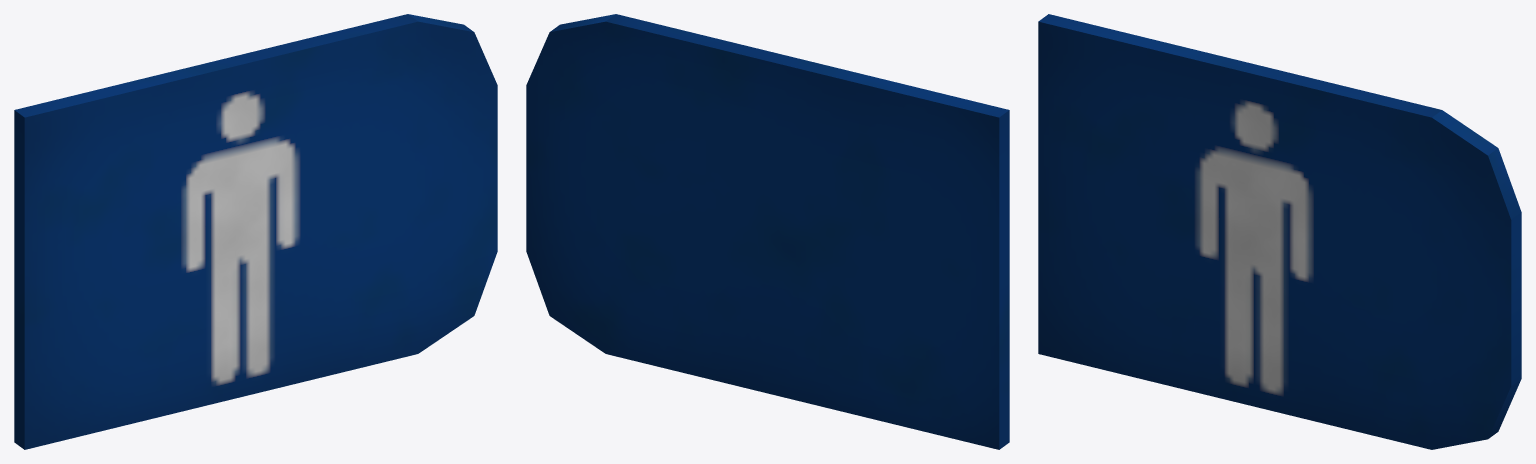
The model's file is Tol_M.fbx.
The picture shows the model from 3 angles, left to right: view 1: azimuth 30°, elevation 25°; view 2: azimuth 150°, elevation 25°; view 3: azimuth 330°, elevation 25°; orthographic projection.
Visible parts, largest first — view 1: pCube1; view 2: pCube1; view 3: pCube1.
Part boxes in pixels (x1,y1,x2,y2): pCube1: (14, 14, 497, 449); pCube1: (526, 14, 1009, 449); pCube1: (1038, 14, 1521, 449).
Size of the model in its own units: 1.18 by 0.7902 by 0.0448.
Materials: 1 (1 with a texture image).
